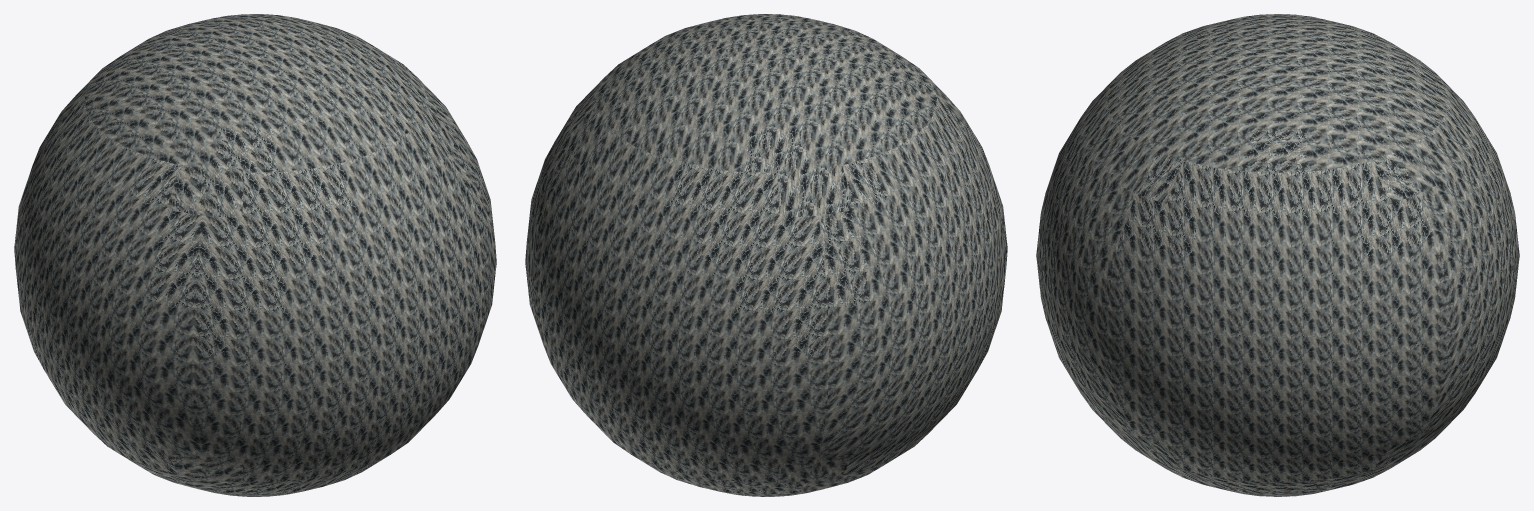
3 renders of one model, left to right at view 1: azimuth 30°, elevation 25°; view 2: azimuth 150°, elevation 25°; view 3: azimuth 270°, elevation 25°, orthographic.
Visible parts, largest first — view 1: Sphere; view 2: Sphere; view 3: Sphere.
Part boxes in pixels (x1,y1,x2,y2): Sphere: [14, 14, 496, 496]; Sphere: [525, 14, 1007, 496]; Sphere: [1036, 14, 1519, 496].
Size of the model in its own units: 13 by 13 by 13.
2 materials, 1 textured.
